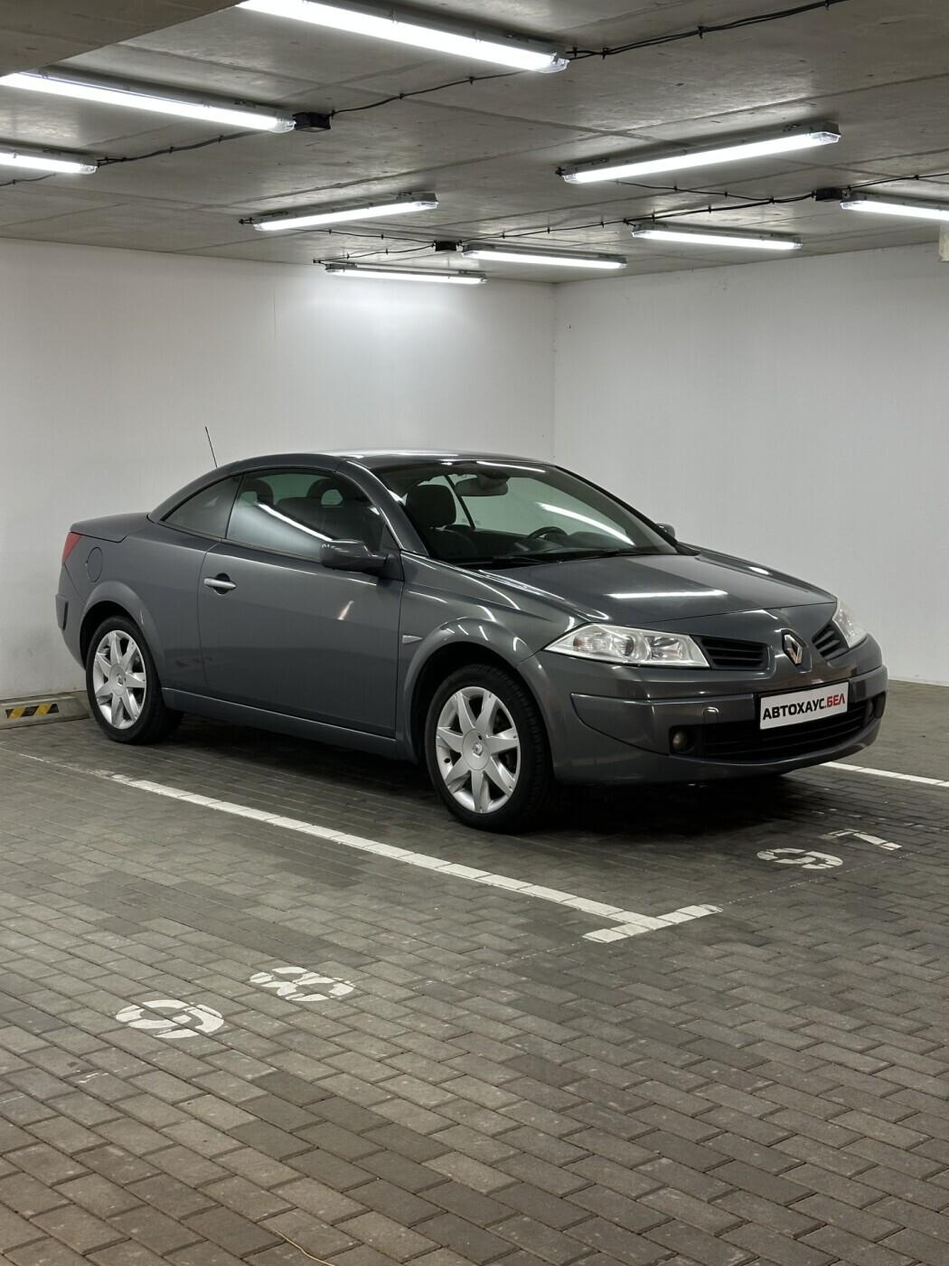Megane_2005-2009: (49, 438, 893, 843)
